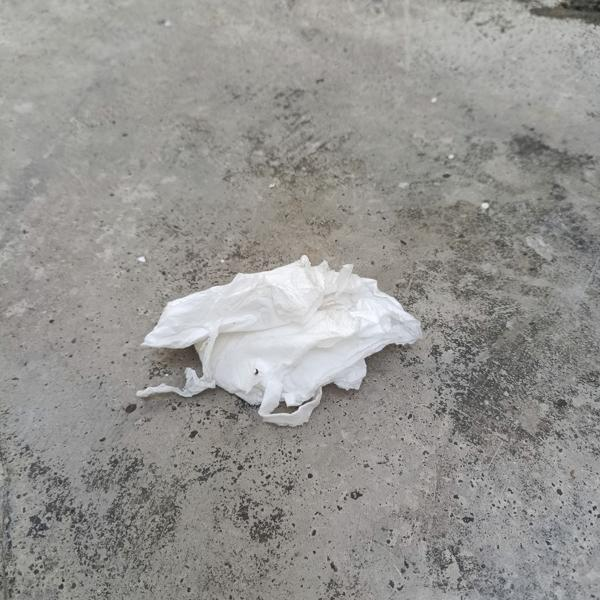Organik: (146, 247, 411, 431)
